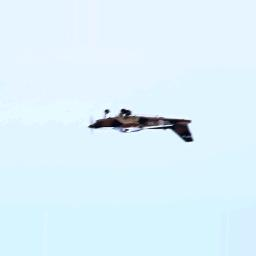Airplane: (87, 109, 195, 145)
